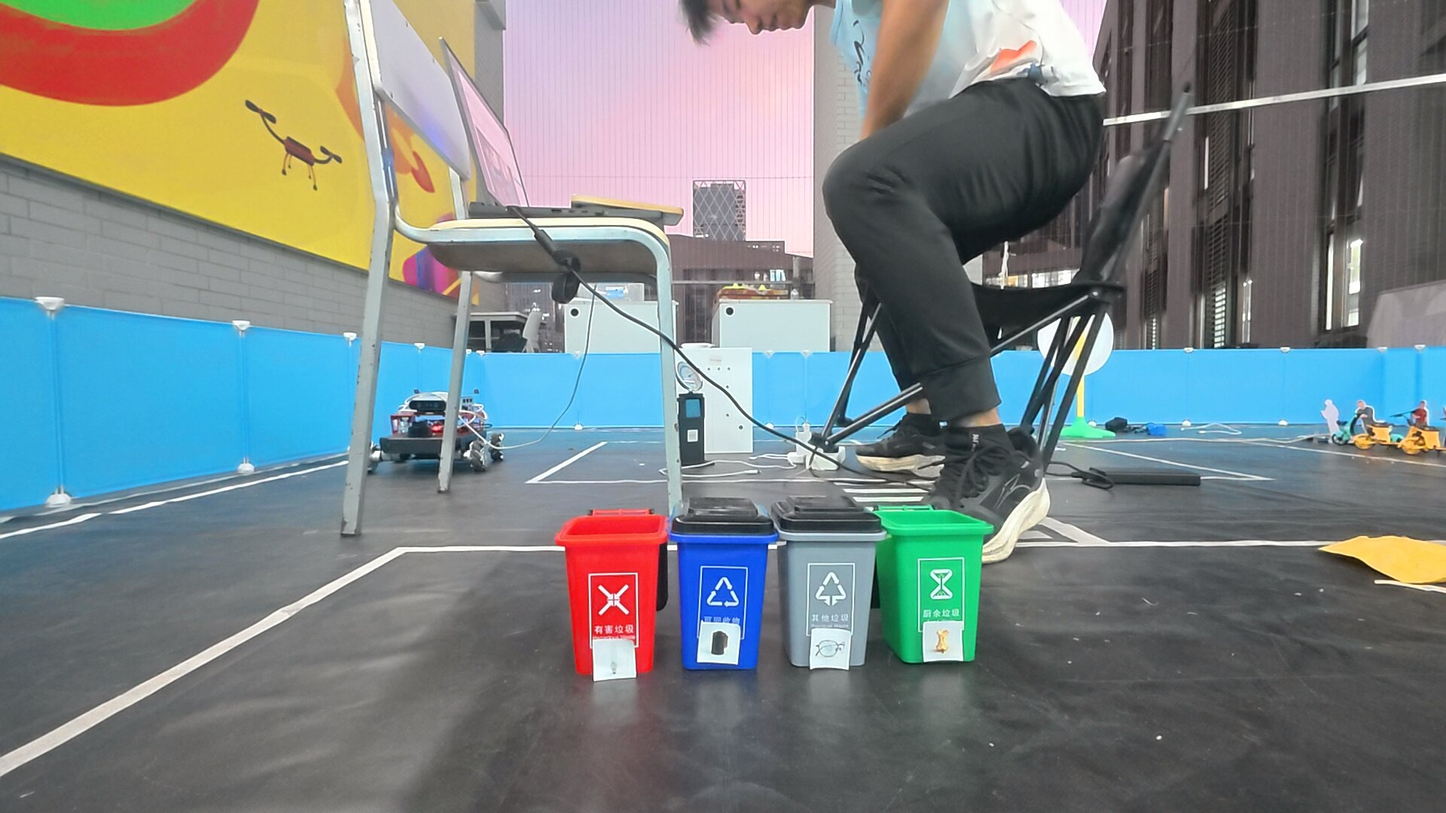food_trash: (925, 621, 964, 661)
hazardous_trash: (699, 623, 741, 666), (594, 642, 636, 680)
other_trash: (812, 628, 852, 671)
